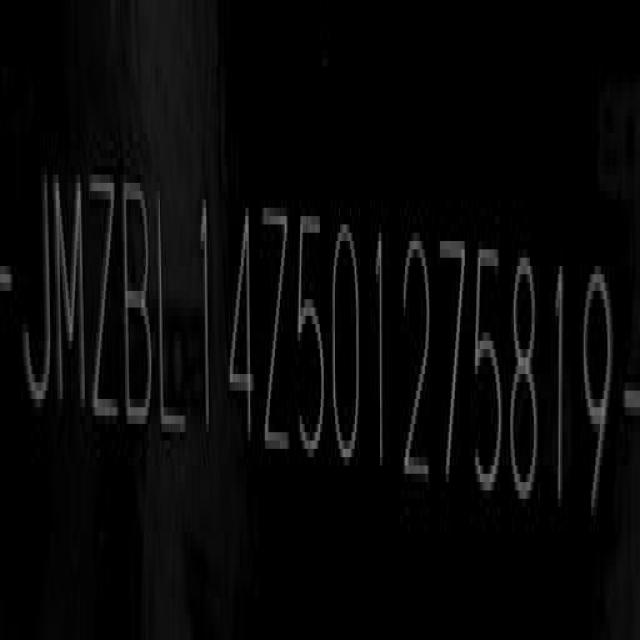0: (332, 212, 361, 480)
1: (194, 185, 217, 434), (372, 213, 388, 477), (553, 256, 567, 520)
2: (398, 224, 434, 502)
4: (228, 218, 255, 428)
5: (473, 222, 503, 502), (298, 194, 327, 474)
7: (438, 215, 466, 496)
8: (511, 250, 538, 524)
9: (583, 246, 615, 548)
B: (124, 166, 152, 428)
J: (25, 163, 55, 440)
L: (154, 182, 188, 452)
M: (54, 169, 90, 428)
Z: (258, 197, 294, 477), (92, 160, 120, 440)
